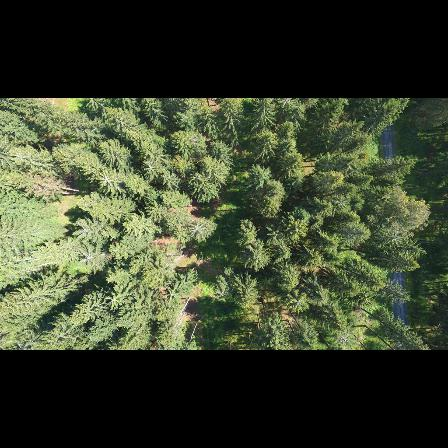Sick: (183, 215, 210, 244), (73, 246, 101, 273), (95, 168, 118, 190), (139, 158, 160, 178)
